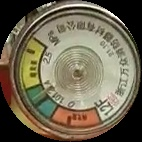green: (25, 83, 57, 117)
needle: (32, 82, 57, 101)
red: (51, 105, 105, 133)
yellow: (19, 37, 46, 88)
